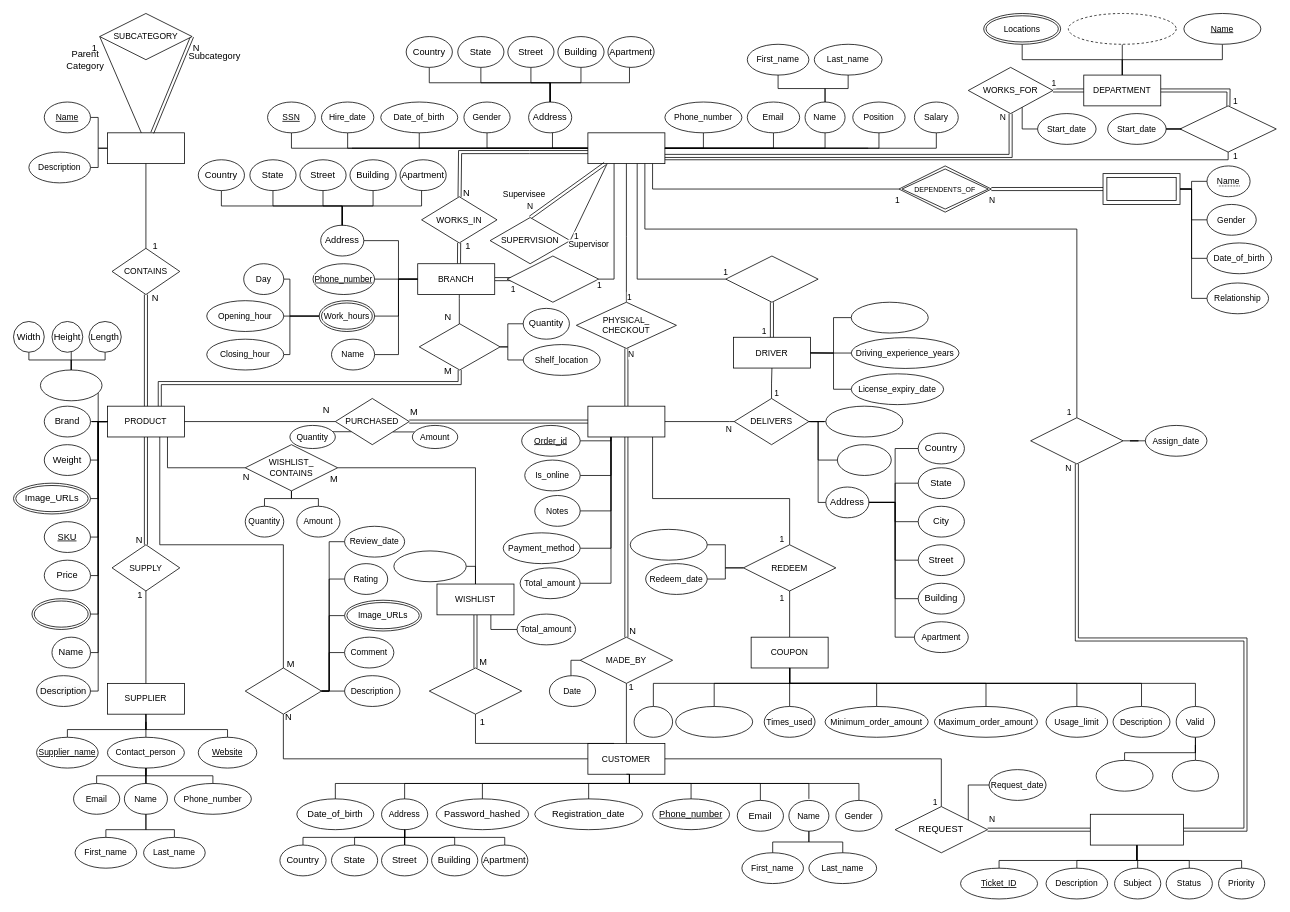
Some shapes in this 1290 by 912 pixel diagram are drawn without their labels. The shapes that lost their labels are listed below. From the top down, each one's box as (x1, y1, x2, y2) in pixels, then its label:
(1068, 13, 1176, 44): Number_of_employees
(107, 132, 184, 164): CATEGORY
(587, 132, 665, 164): EMPLOYEE
(1179, 105, 1276, 152): MANAGES_ DEPARTMENT
(1102, 173, 1180, 204): DEPENDENT
(506, 255, 599, 302): MANAGES_ BRANCH
(725, 255, 818, 302): IS_DRIVER
(850, 301, 928, 333): License_number
(418, 323, 500, 370): LOCATED_IN
(40, 369, 102, 401): Dimensions
(587, 405, 665, 437): ORDER
(825, 405, 903, 437): Expected_time
(1030, 417, 1123, 464): ASSIGNED_TO
(837, 444, 891, 475): Actual_time
(629, 529, 707, 560): Discount_amount
(393, 550, 466, 582): WISHLIST_ID
(31, 598, 90, 629): Colors
(244, 667, 321, 714): REVIEWS
(429, 667, 522, 714): HAS_WISHLIST
(633, 706, 673, 737): Code
(675, 706, 753, 737): Discount_percent
(1095, 760, 1153, 791): Valid_from
(1172, 760, 1219, 791): Valid_to
(1090, 814, 1183, 845): SUPPORT_TICKET
